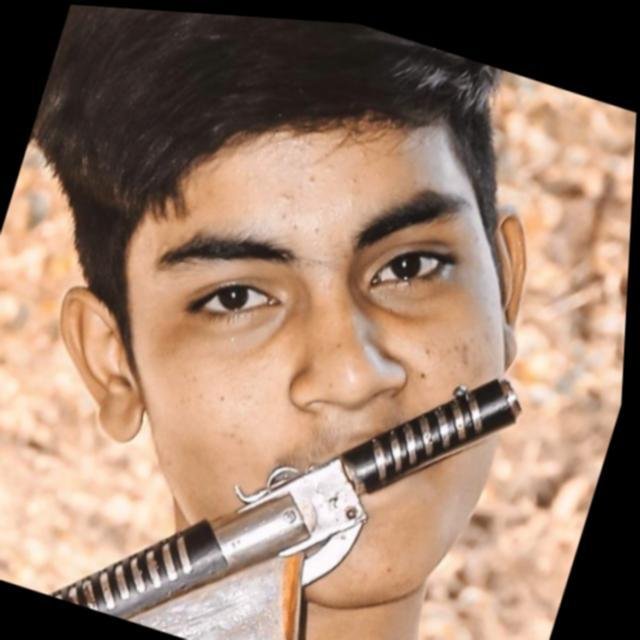weapon: (23, 242, 554, 640)
